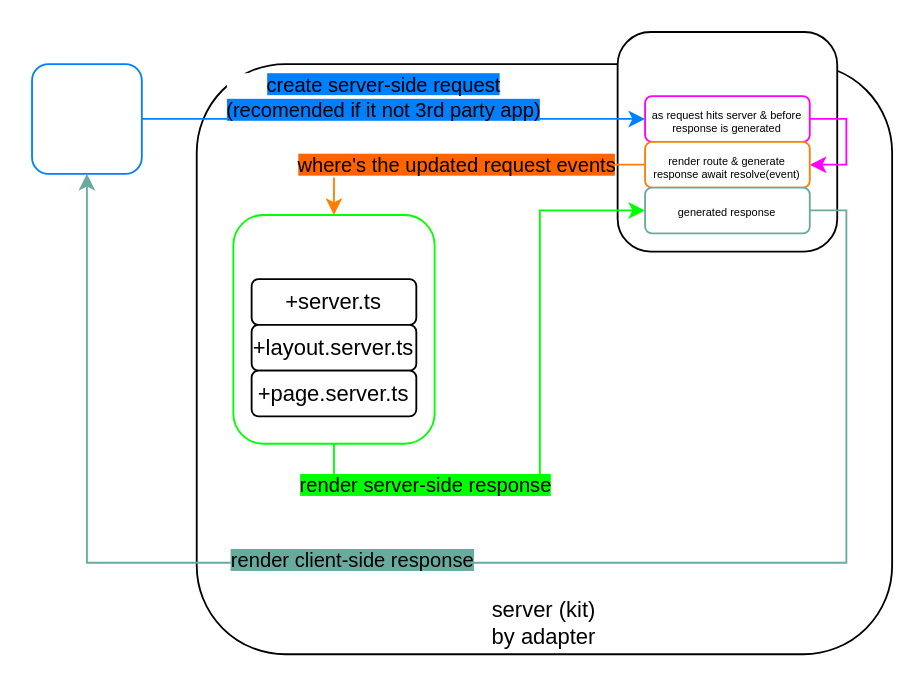
The diagram is 924 pixels wide and 686 high, and some of its shapes have lost their labels. The shapes that lost their labels are listed below. From the top down, each one's box as (x1, y1, x2, y2) in pixels, then its label:
(30, 62, 142, 174): client (browser)
(616, 30, 837, 252): hooks.server.ts
(231, 213, 435, 444): src/route
